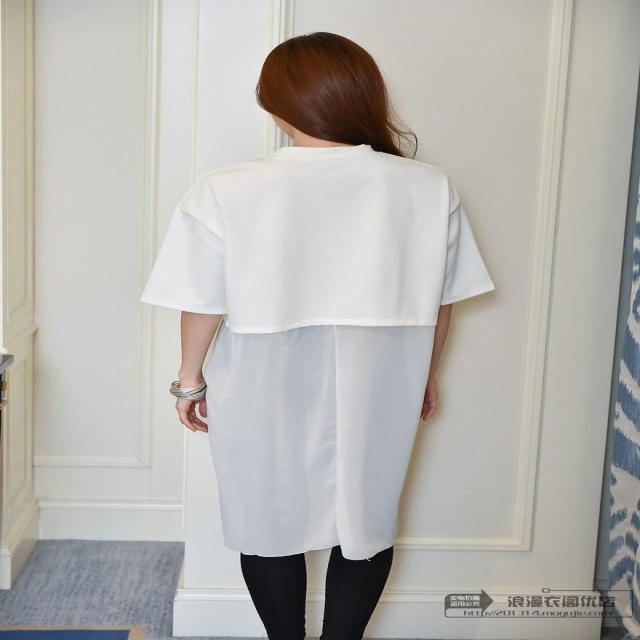short-sleeve-top: (157, 126, 469, 585)
